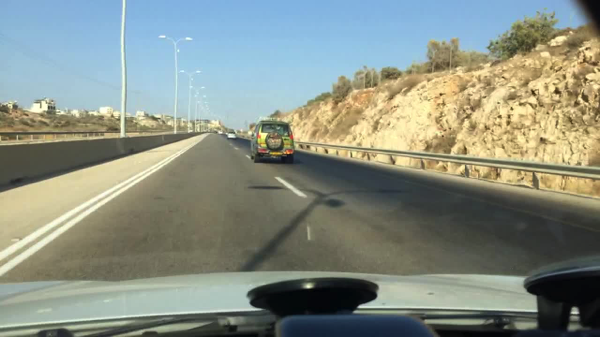car: (249, 120, 296, 164), (226, 132, 236, 141), (212, 130, 217, 135), (217, 131, 223, 133)
